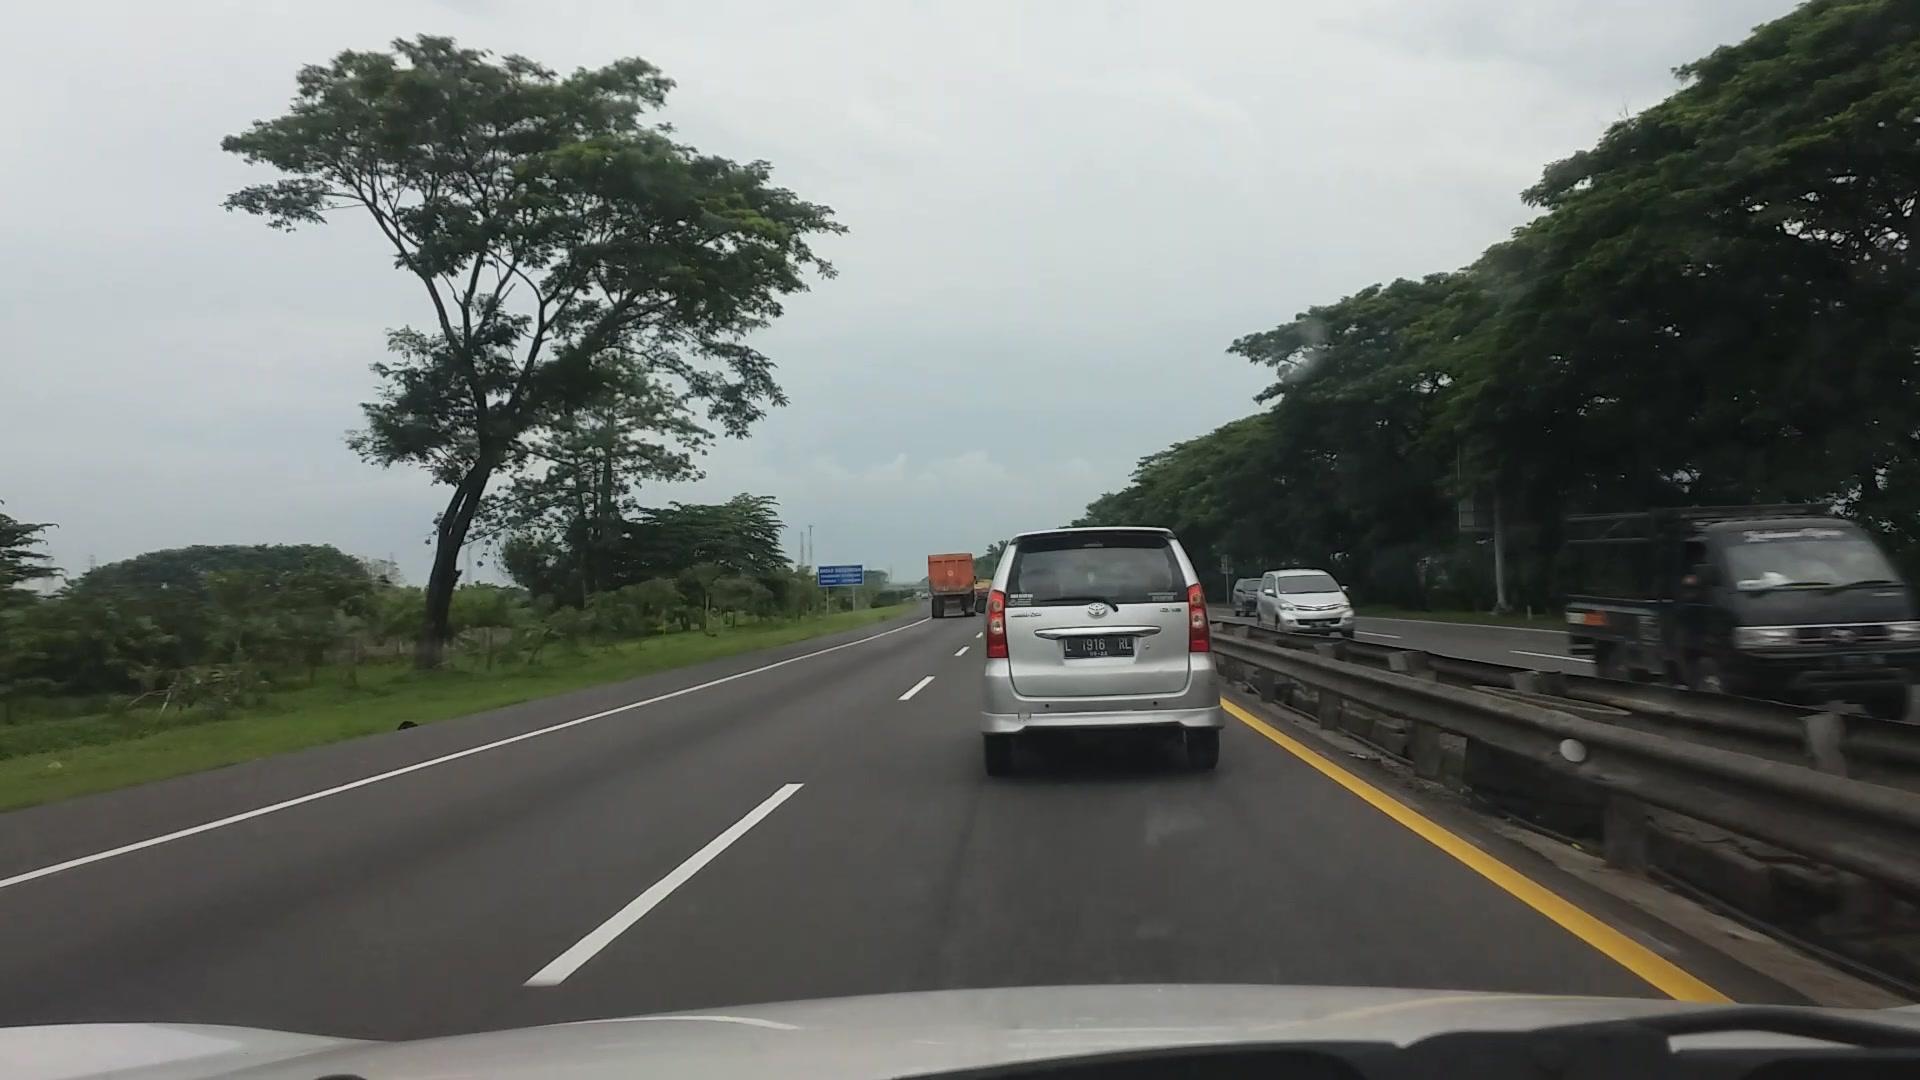plate_positive: (1063, 636, 1134, 658)
